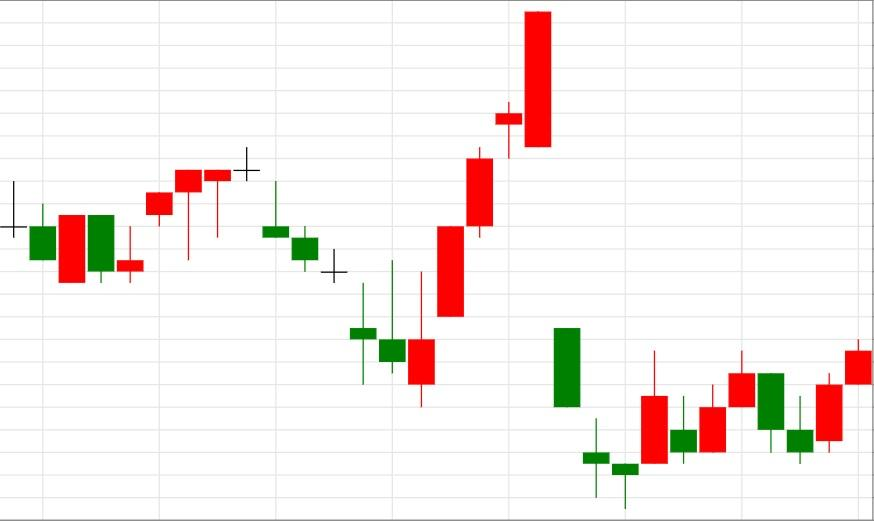hanging_man_fall: (58, 169, 203, 283)
three_white_soldiers_rise: (233, 147, 494, 408)
